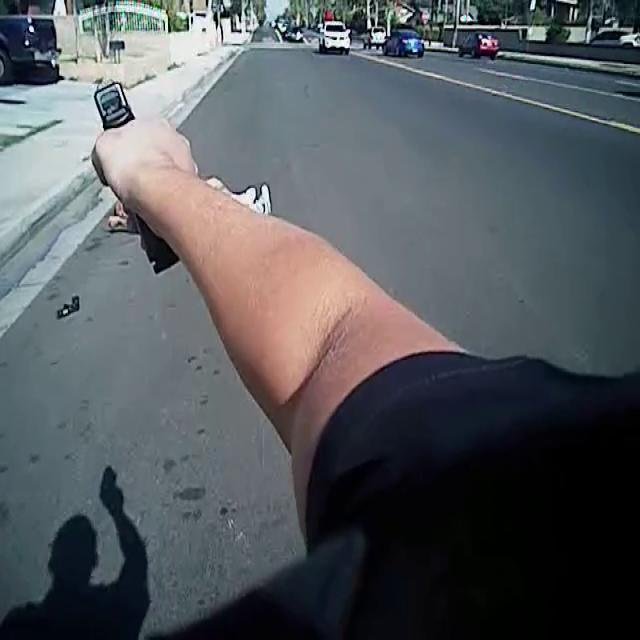gun: (71, 66, 199, 284)
